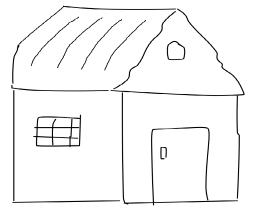big_house: (1, 1, 260, 209)
closed_window: (30, 106, 84, 151)
door: (145, 120, 217, 207)
roof: (7, 2, 249, 102)
wall: (115, 85, 246, 207)
